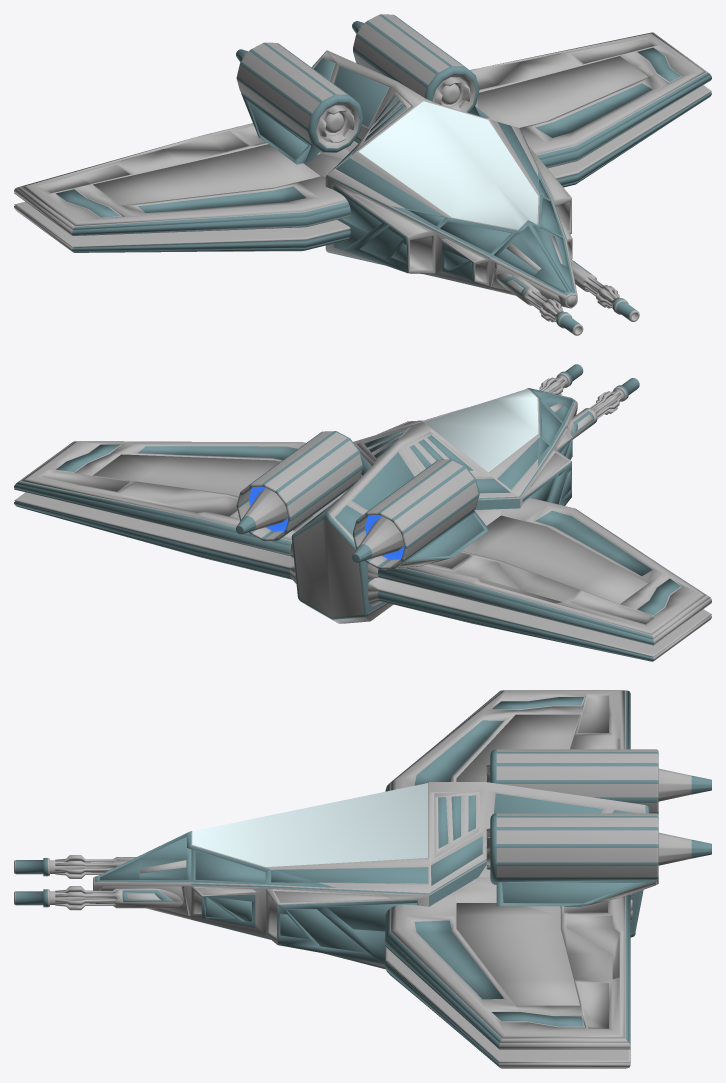
File: ship.glb
The picture shows the model from 3 angles, top to bottom: view 1: azimuth 30°, elevation 25°; view 2: azimuth 150°, elevation 25°; view 3: azimuth 270°, elevation 25°; orthographic projection. The views are drawn at different scales.
Parts seen in each view (by area): view 1: Small Space Fighter; view 2: Small Space Fighter; view 3: Small Space Fighter.
Boxes of the visible parts, x1,y1,x2,y2 form: Small Space Fighter: (14,14,711,335); Small Space Fighter: (14,364,711,661); Small Space Fighter: (14,690,711,1068).
Bounding box in the file's own units: 34.74 × 7.32 × 29.05.
